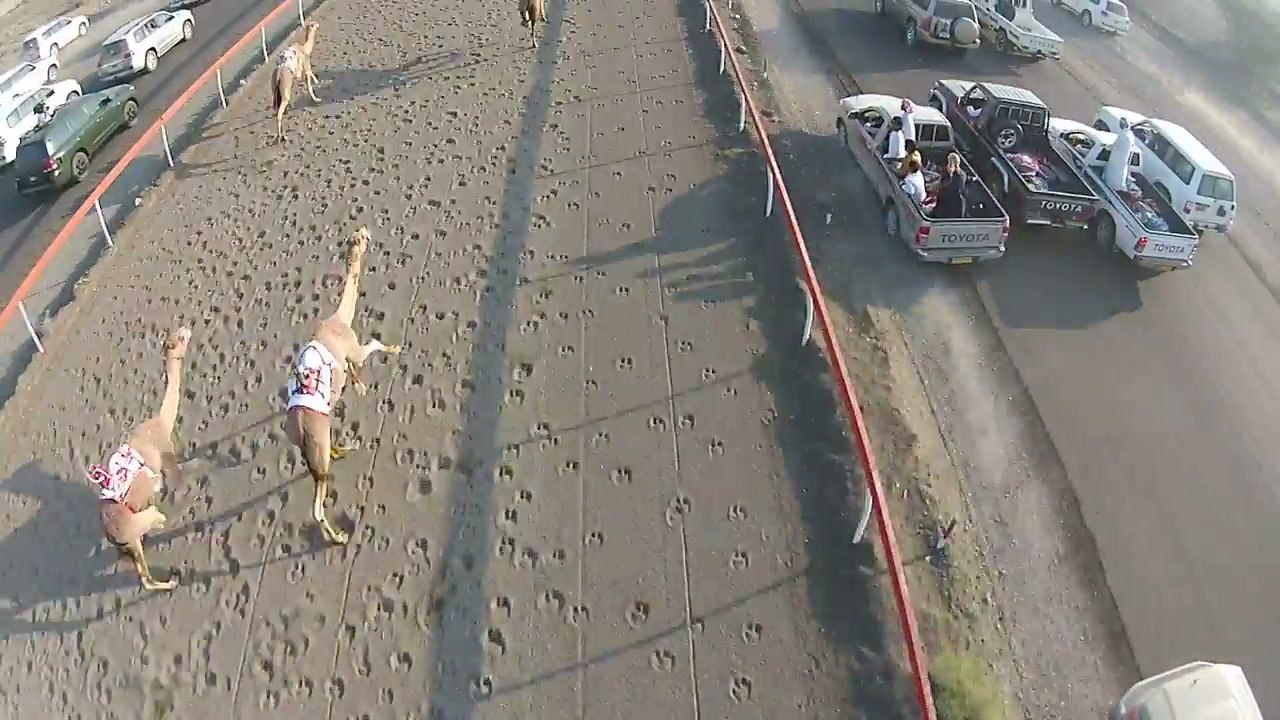animal_footprint: (209, 101, 774, 715), (665, 494, 691, 526), (535, 588, 566, 614), (405, 474, 433, 502), (662, 274, 699, 295), (143, 570, 179, 591), (276, 449, 304, 476), (351, 641, 372, 677), (625, 600, 650, 628), (405, 536, 429, 565), (513, 547, 542, 569), (729, 675, 752, 702), (321, 523, 349, 545), (426, 387, 447, 416), (486, 627, 507, 655), (650, 648, 674, 671), (470, 675, 493, 699), (565, 605, 590, 627), (258, 689, 282, 711), (490, 595, 512, 618), (398, 402, 419, 426), (324, 677, 345, 700), (495, 536, 516, 559), (741, 621, 762, 644), (671, 493, 691, 514), (729, 549, 749, 570), (512, 363, 534, 382), (610, 467, 632, 485), (537, 434, 561, 450), (287, 562, 305, 583), (726, 503, 747, 521), (457, 553, 476, 572), (329, 445, 353, 460), (500, 507, 518, 527), (495, 464, 514, 482), (433, 454, 453, 471), (378, 686, 395, 705), (777, 552, 796, 569), (590, 430, 609, 447), (507, 388, 525, 405), (502, 443, 520, 460), (532, 421, 551, 437), (690, 617, 705, 637), (584, 531, 604, 546), (547, 549, 567, 564), (533, 289, 553, 304), (708, 438, 724, 456), (648, 415, 667, 430), (547, 252, 570, 264), (251, 465, 267, 482), (761, 408, 777, 425), (560, 460, 579, 474), (520, 320, 540, 333), (678, 413, 694, 429), (503, 507, 518, 524), (516, 488, 533, 503), (617, 356, 634, 370), (519, 248, 536, 262), (153, 512, 167, 528), (557, 344, 575, 356), (577, 308, 595, 320), (352, 382, 367, 396), (663, 172, 678, 186), (424, 198, 443, 209), (721, 384, 737, 397), (702, 367, 716, 381), (583, 379, 598, 392), (677, 340, 693, 352), (383, 344, 402, 354), (747, 346, 763, 356), (615, 285, 629, 296), (556, 311, 570, 322), (700, 299, 715, 309), (618, 222, 632, 232), (276, 134, 288, 145), (753, 443, 765, 451)
